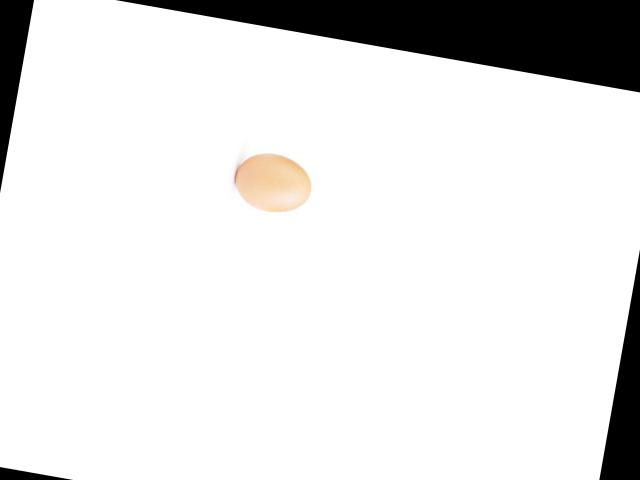egg: (231, 147, 315, 217)
